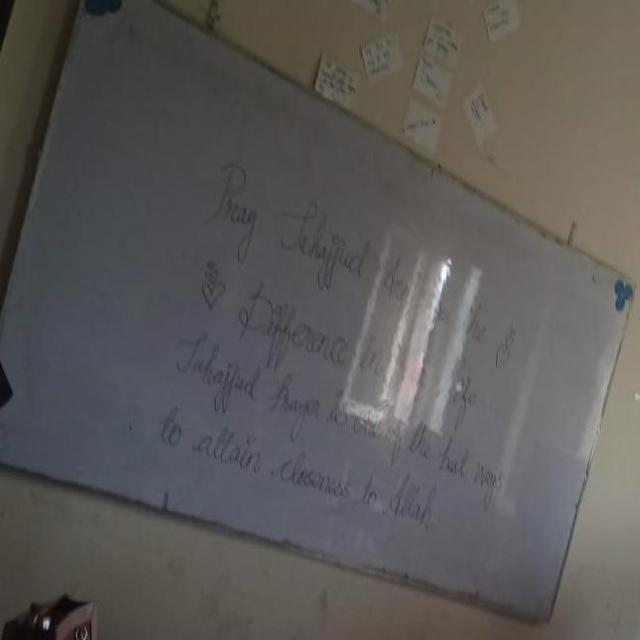White-board: (0, 0, 639, 635)
